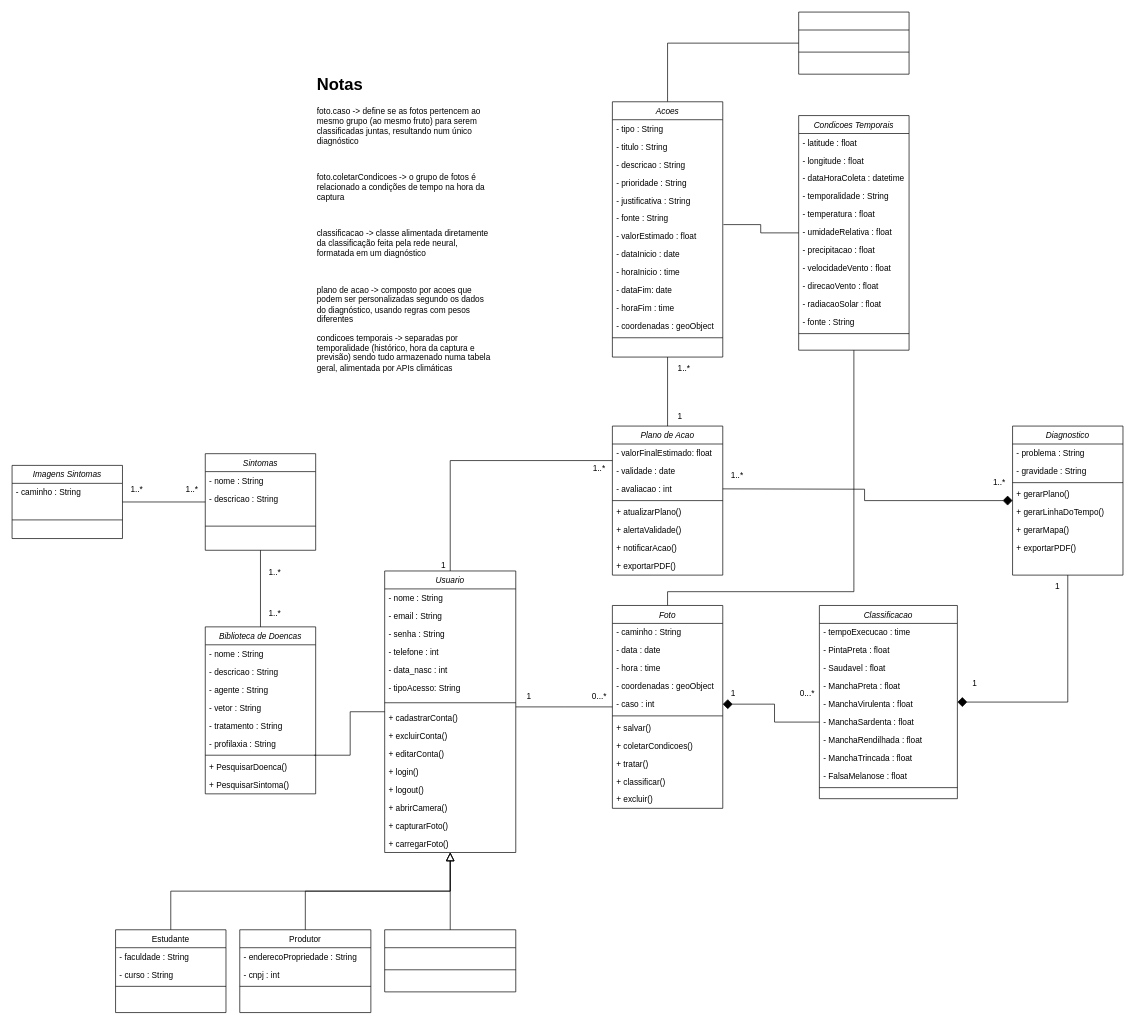
Some shapes in this 1135 by 1025 pixel diagram are drawn without their labels. Here are the shapes that lost their labels. From the top down, the centre of each, then its label:
the point at 853,42: Regras de Manejo
the point at 450,960: Administrador
